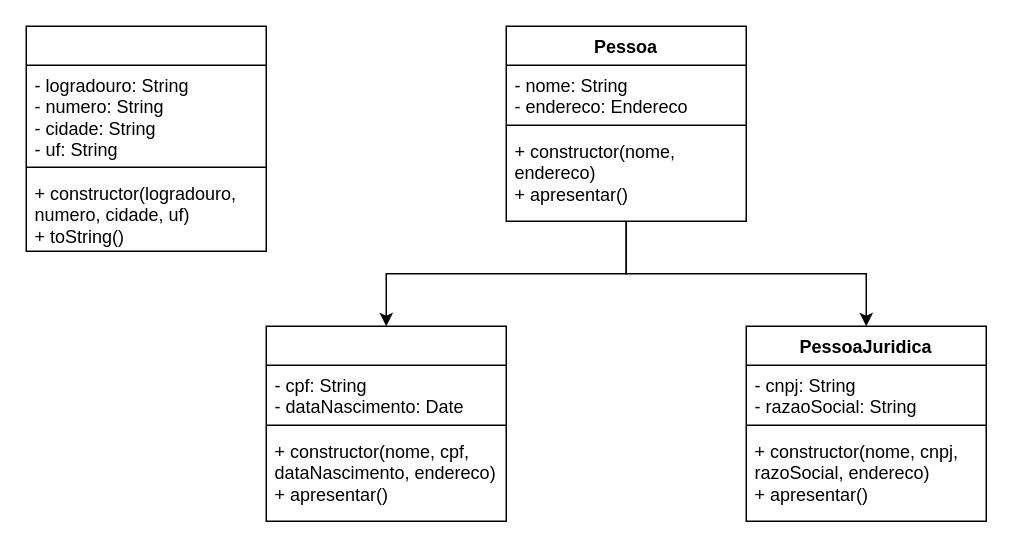
This 1013x552 diagram has some shape labels left out. The shapes that lost their labels are listed below. From the top down, each one's box as (x1, y1, x2, y2) in pixels, then its label:
(25, 25, 266, 251): Endereco
(265, 325, 506, 521): PessoaFisica
